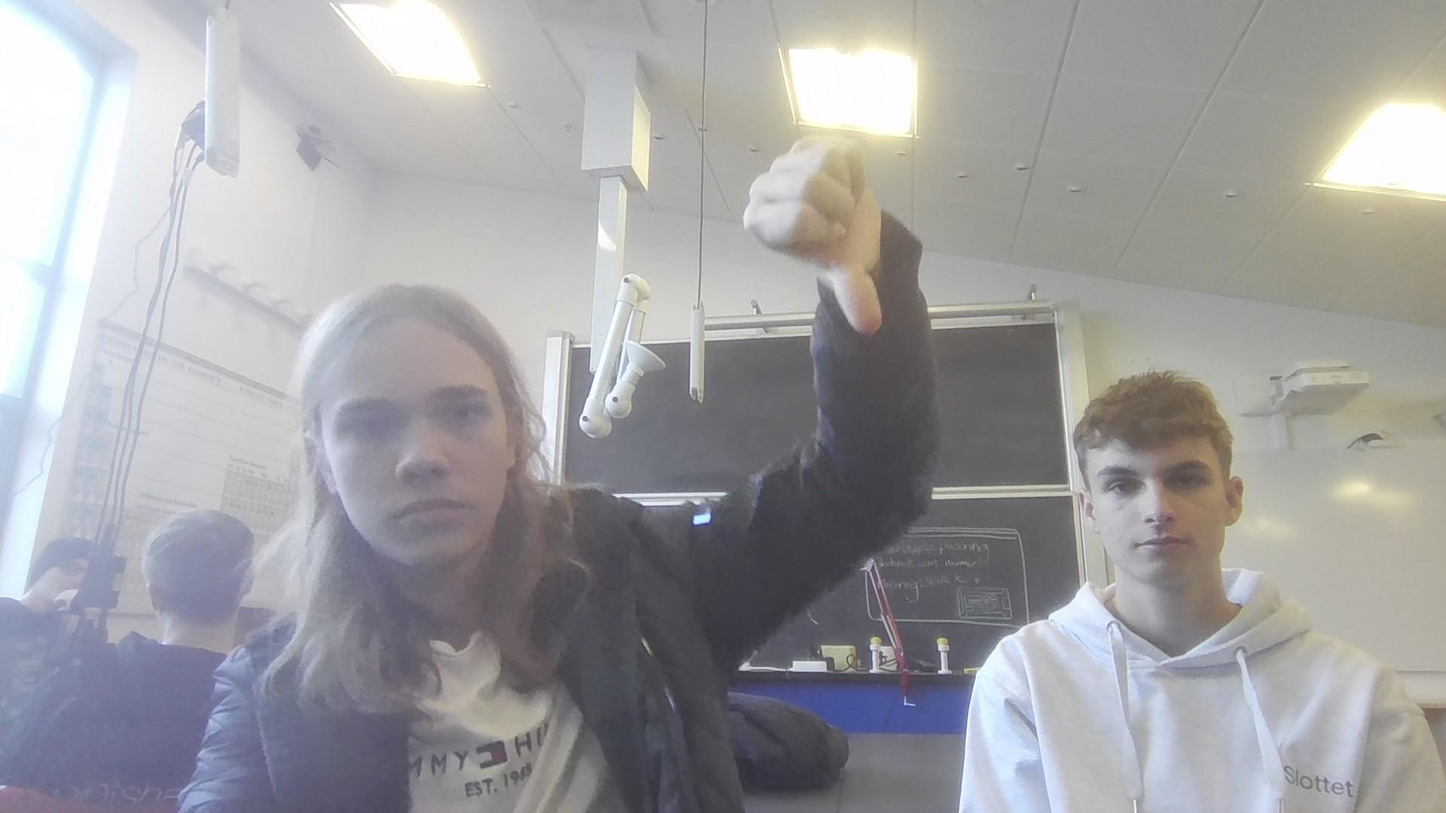thumbs down: (743, 129, 906, 336)
